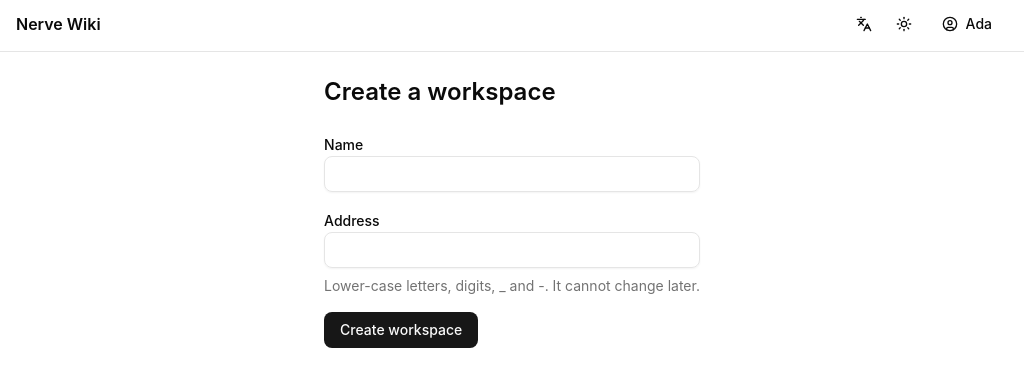
Test: a slug changed after a refusal shows whether the new one is free, not the refusal
Type "Acme" into the field labelled "Name".
click(512, 174); type("Acme")  # box top-left (324, 156), bottom-right (700, 192)
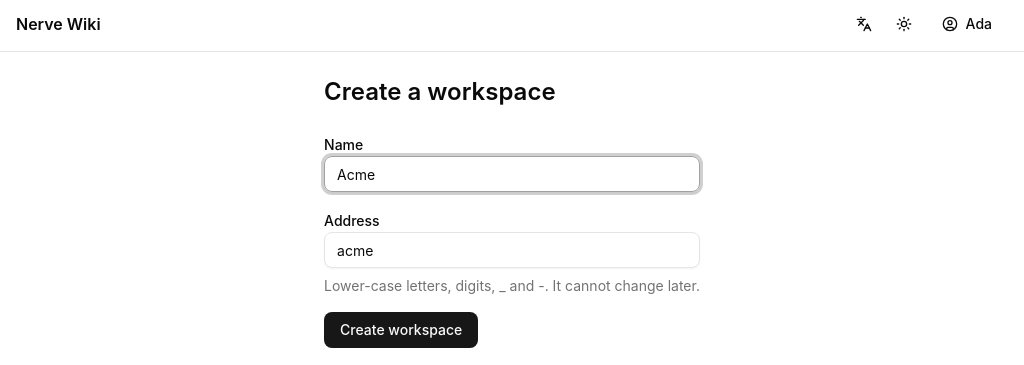
Click the button "Create workspace".
click(401, 330)  # box top-left (324, 312), bottom-right (478, 348)
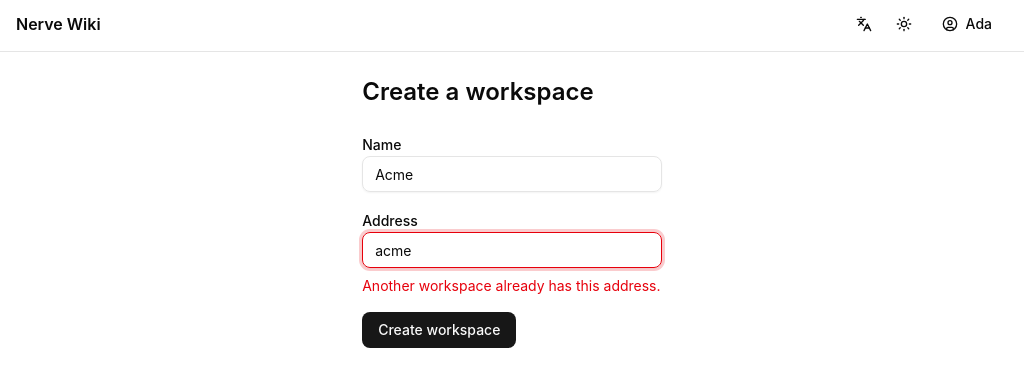
Check: the text "Another workspace already has this address." is shown, box top-left (362, 276), bottom-right (662, 296)
Type "-labs" into the field labelled "Address".
click(512, 250); type("-labs")  # box top-left (362, 232), bottom-right (662, 268)
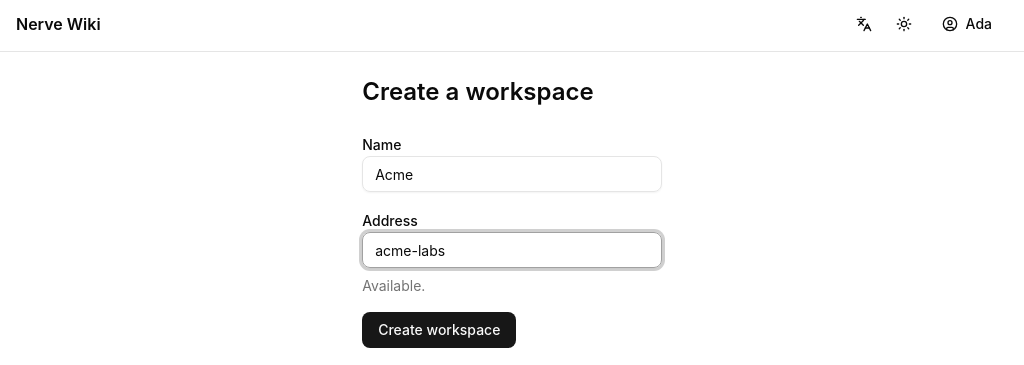
Check: the text "Available." is shown, box top-left (362, 277), bottom-right (425, 294)
Check: the text "Another workspace already has this address." is gone
